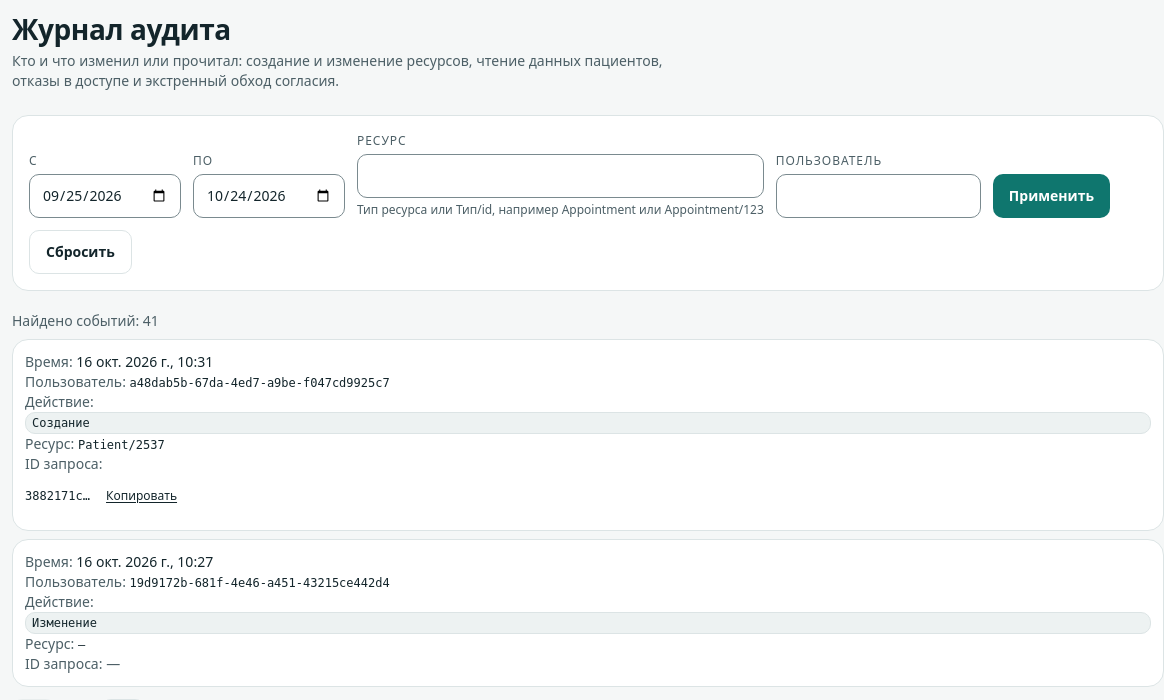
it: AuditPanel › should refuse a period over 366 days when the filter is applied
Expected: the text "Найдено событий: 41" is shown, [12,311,159,330]
In the date field labelled "С": [105, 196] box [29,174,181,218], type "2024-01-01"
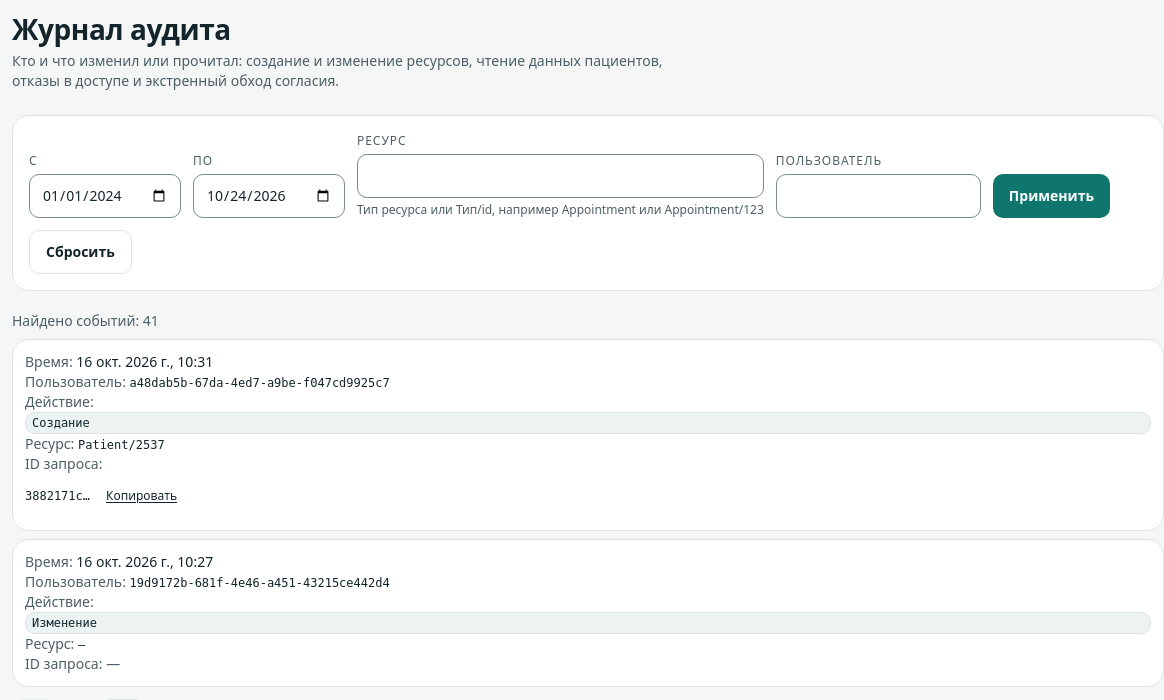
Click the button "Применить": [1051, 196] box [993,174,1110,218]
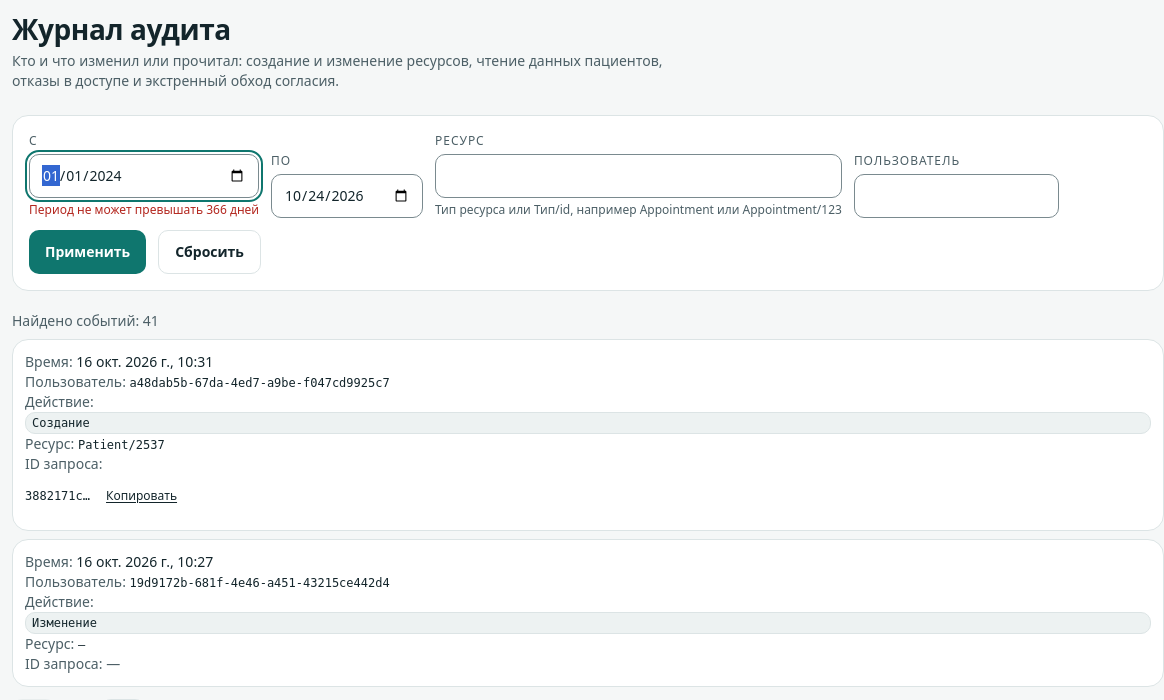
Expected: the text "Период не может превышать 366 дней" is shown, [29,202,259,218]
